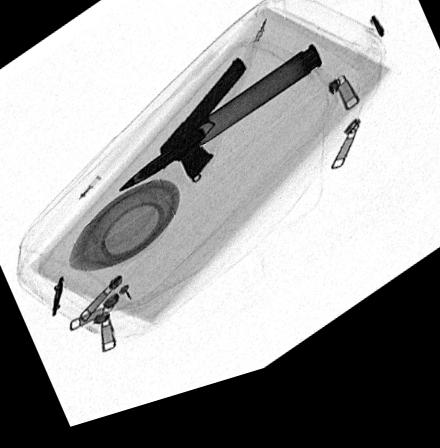Bullet: (115, 62, 322, 198)
Gun: (158, 70, 247, 191)
